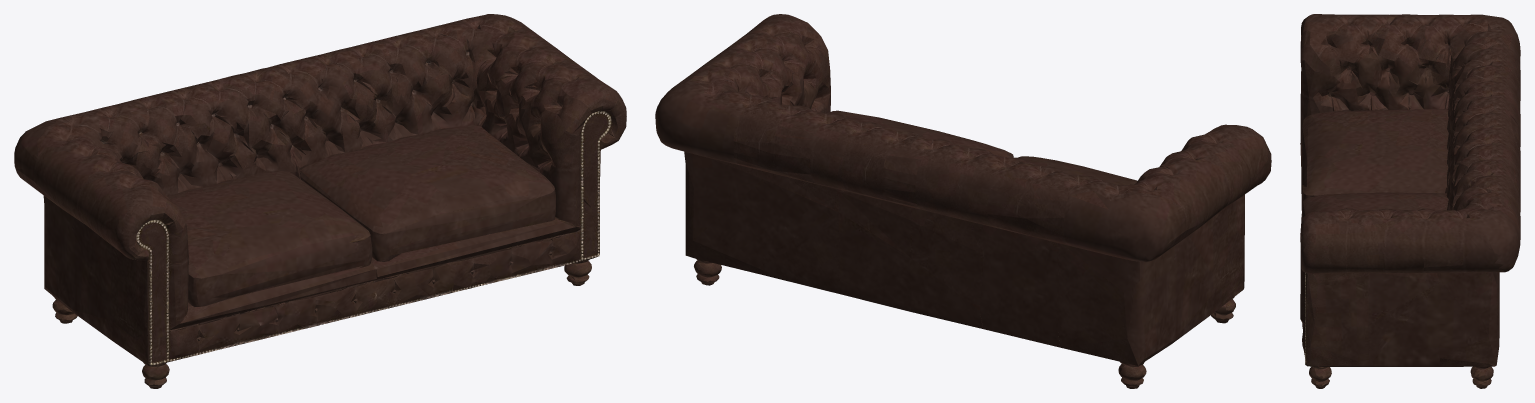
The model's file is sp_m_sofa.glb.
3 renders of one model, left to right at view 1: azimuth 30°, elevation 25°; view 2: azimuth 150°, elevation 25°; view 3: azimuth 270°, elevation 25°, orthographic. The views are drawn at different scales.
Parts seen in each view (by area): view 1: Mesh_0; view 2: Mesh_0; view 3: Mesh_0.
Part boxes in pixels (x1,y1,x2,y2): Mesh_0: [14, 14, 626, 388]; Mesh_0: [655, 14, 1271, 388]; Mesh_0: [1300, 14, 1520, 388].
Size of the model in its own units: 1.9 by 0.7046 by 0.7882.
Materials: 1 (1 with a texture image).
